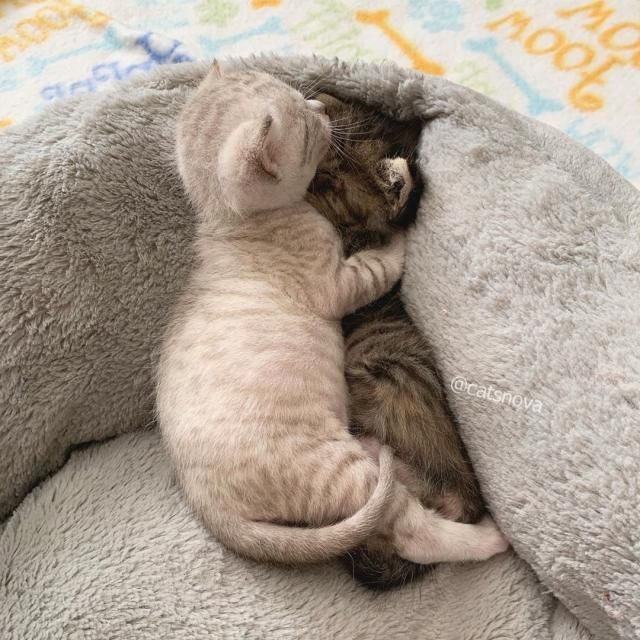cat: (169, 65, 364, 561), (305, 92, 460, 584)
